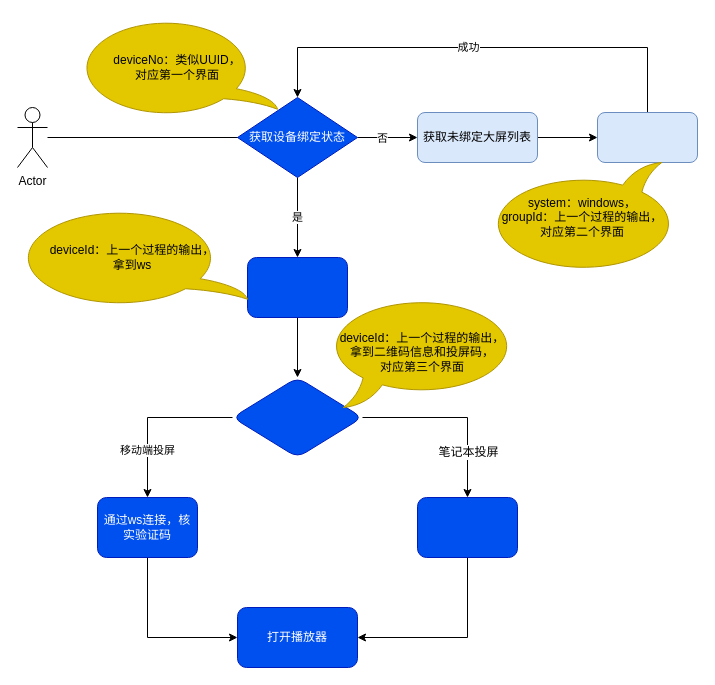
Image size: 715x685. Some labels were removed from this diagram. Each missing label, with the centre of its shape:
"绑定大屏设备" belongs at pixel 647 137.
"获取学生大屏显示信息" belongs at pixel 297 417.
"获取设备信息" belongs at pixel 297 287.
"输入投屏码" belongs at pixel 467 527.
